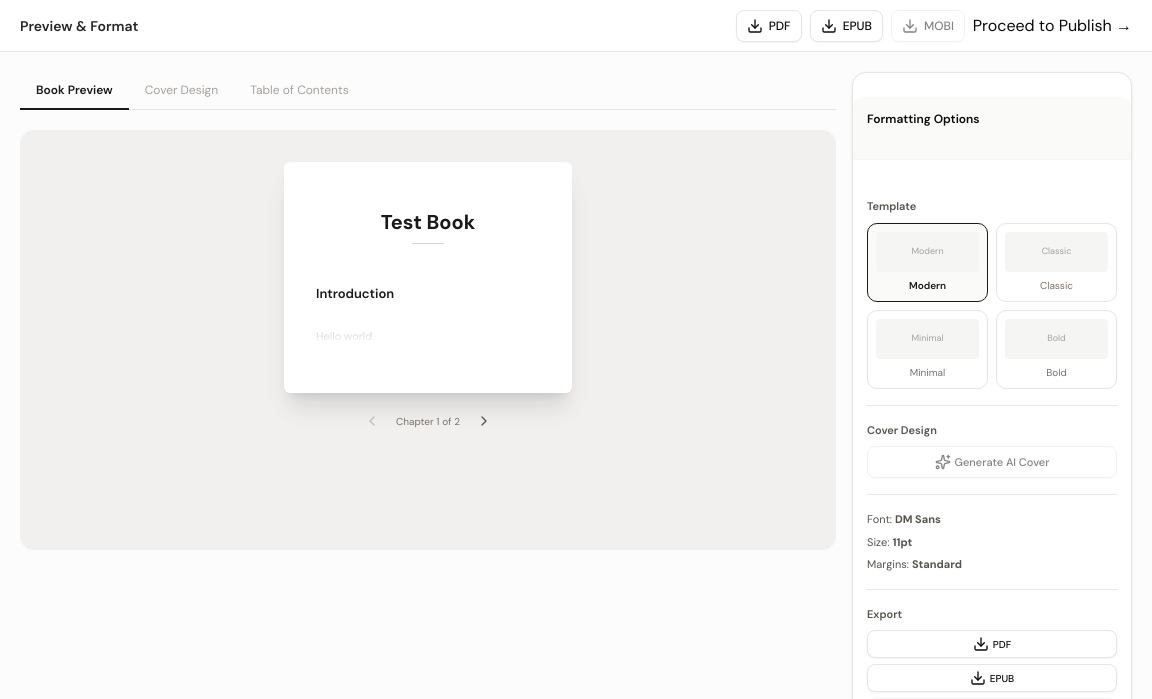
Test: PreviewWrapper › switches to Table of Contents tab
Step 1. Click the button "Table of Contents" → (299,91), box [234,72,365,110]
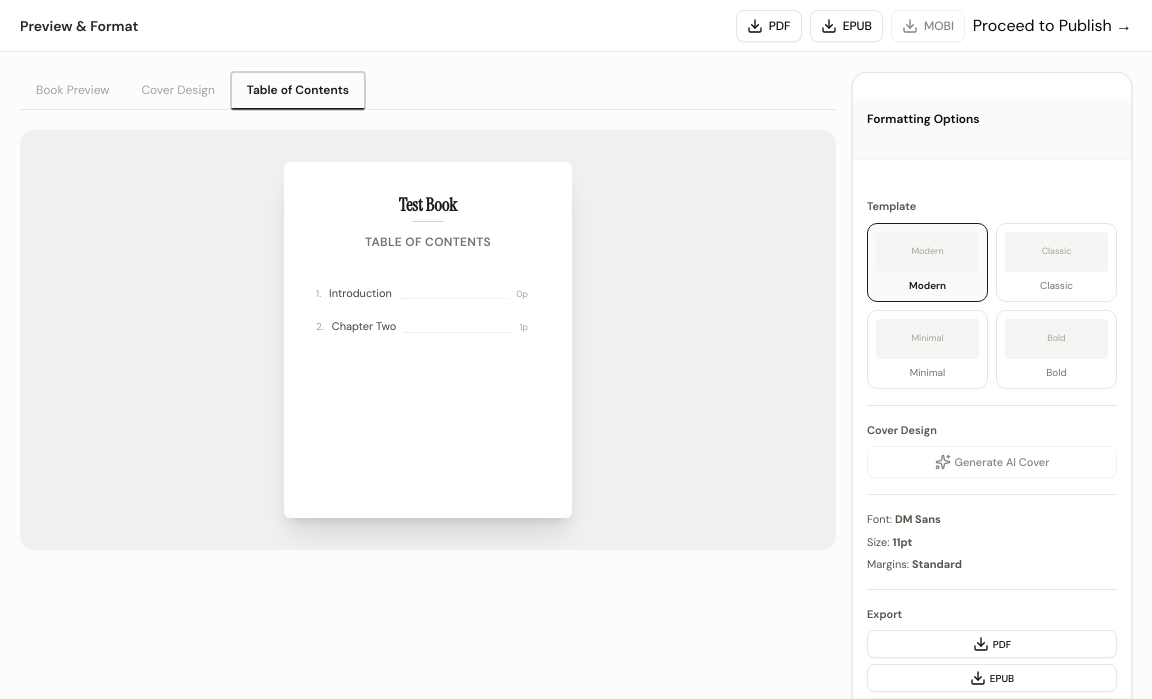
Expected: the text "Introduction" is shown, [329,286,392,301]
Now the text "Chapter Two" is shown, box [332,319,396,334]
